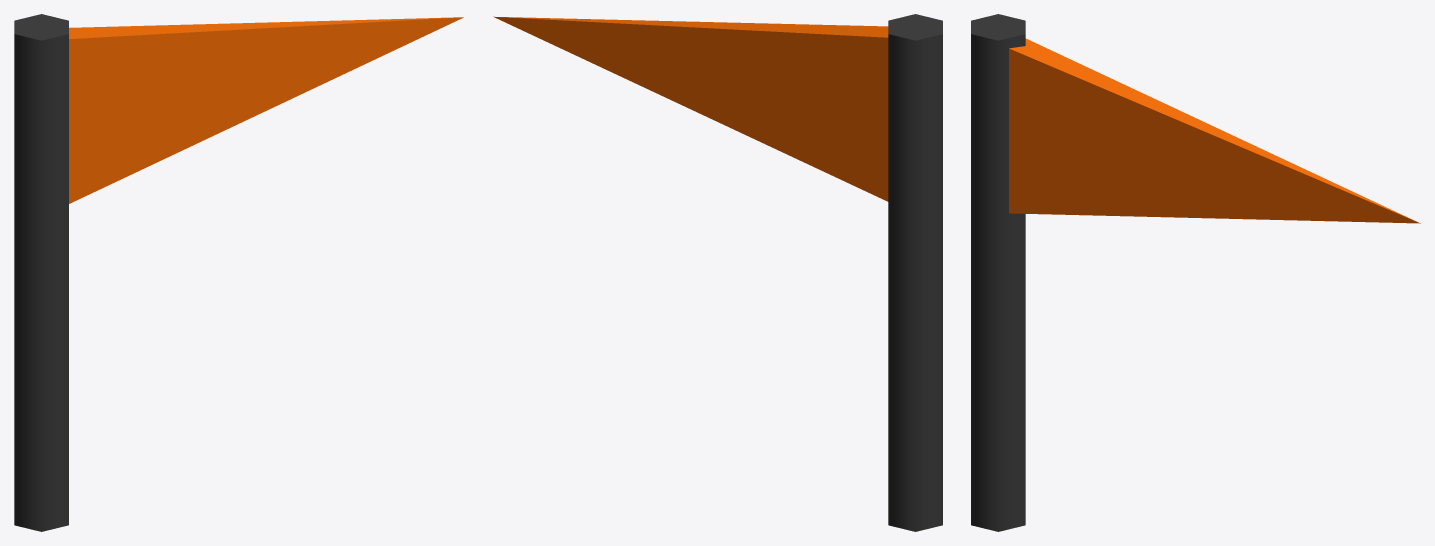
Rendered from Castle_Block_G.FBX.
3 views of the same model, side by side, from view 1: azimuth 30°, elevation 25°; view 2: azimuth 150°, elevation 25°; view 3: azimuth 330°, elevation 25° (orthographic).
Visible parts, largest first — view 1: Castle_block_G; view 2: Castle_block_G; view 3: Castle_block_G.
Boxes of the visible parts, bbox=[...] form: Castle_block_G: bbox=[14, 14, 463, 531]; Castle_block_G: bbox=[493, 14, 942, 531]; Castle_block_G: bbox=[971, 14, 1420, 531].
Size of the model in its own units: 17.37 by 18.11 by 1.83.
